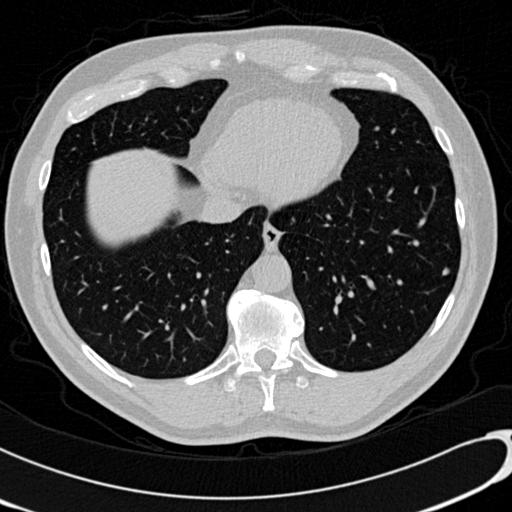nodule: (439, 265, 452, 278)
